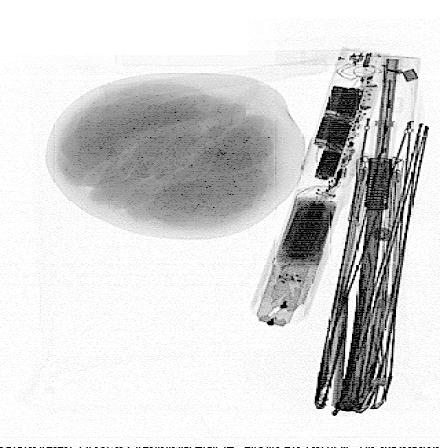Baton: (247, 48, 394, 330)
